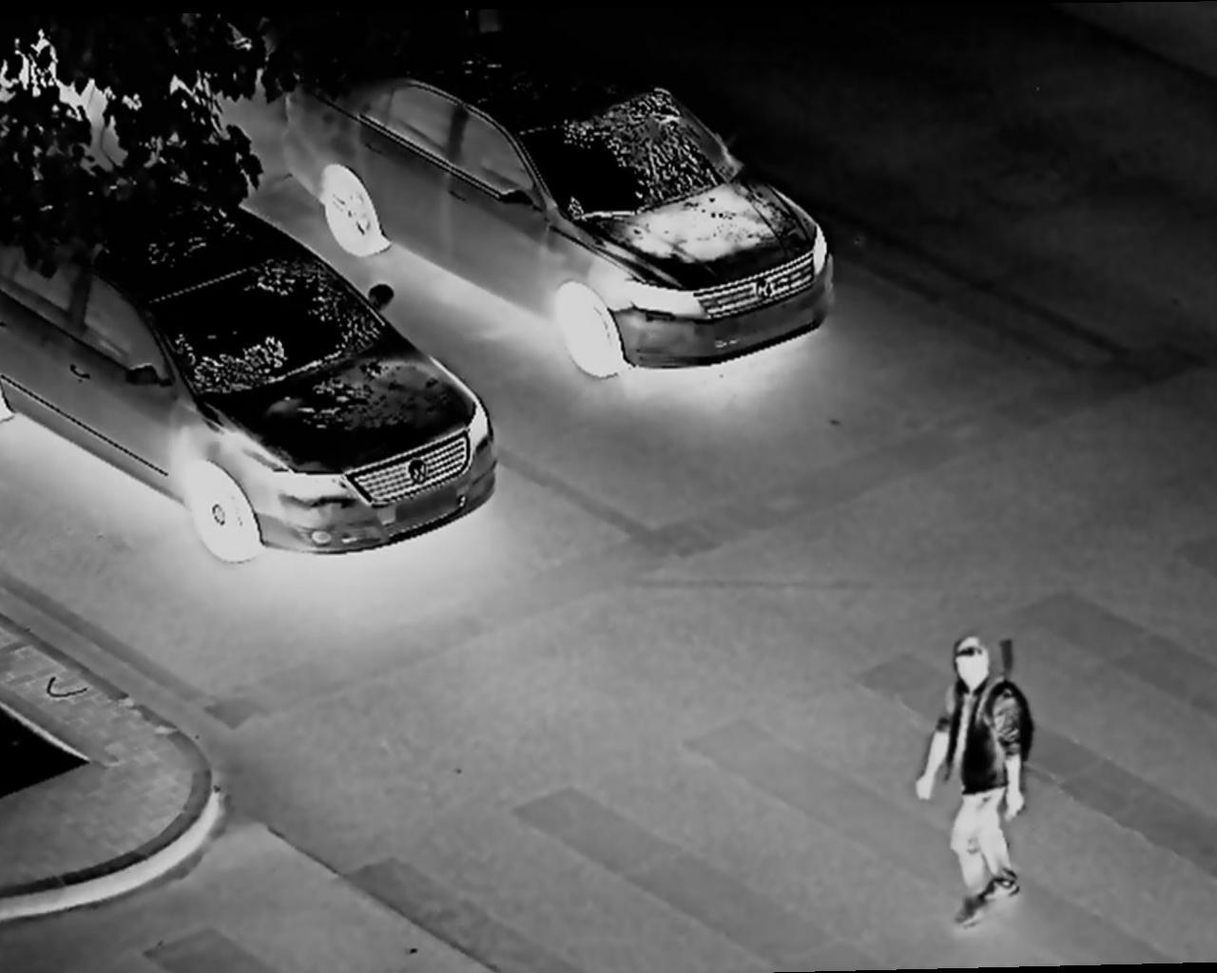person: (907, 628, 1044, 912)
